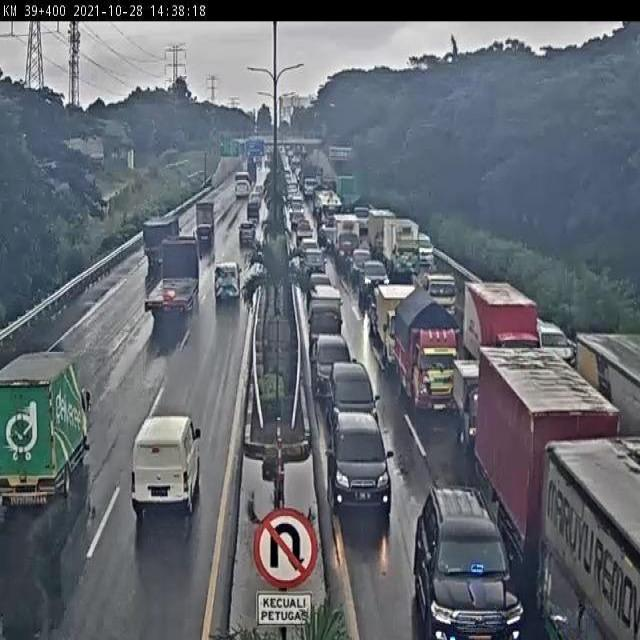big bus: (233, 168, 254, 204)
big truck: (479, 342, 606, 538), (546, 438, 639, 640), (465, 283, 542, 368), (580, 330, 640, 438), (144, 238, 202, 322), (140, 215, 183, 262)
car: (413, 482, 510, 640), (112, 415, 203, 520), (329, 411, 399, 513), (313, 329, 359, 399), (333, 358, 382, 422), (535, 316, 578, 368), (358, 259, 392, 304), (214, 260, 242, 303), (236, 217, 256, 248), (195, 224, 212, 248)
small truck: (0, 346, 106, 506), (399, 292, 456, 417), (375, 288, 430, 373), (448, 354, 497, 449), (408, 264, 464, 323), (188, 199, 220, 232)
